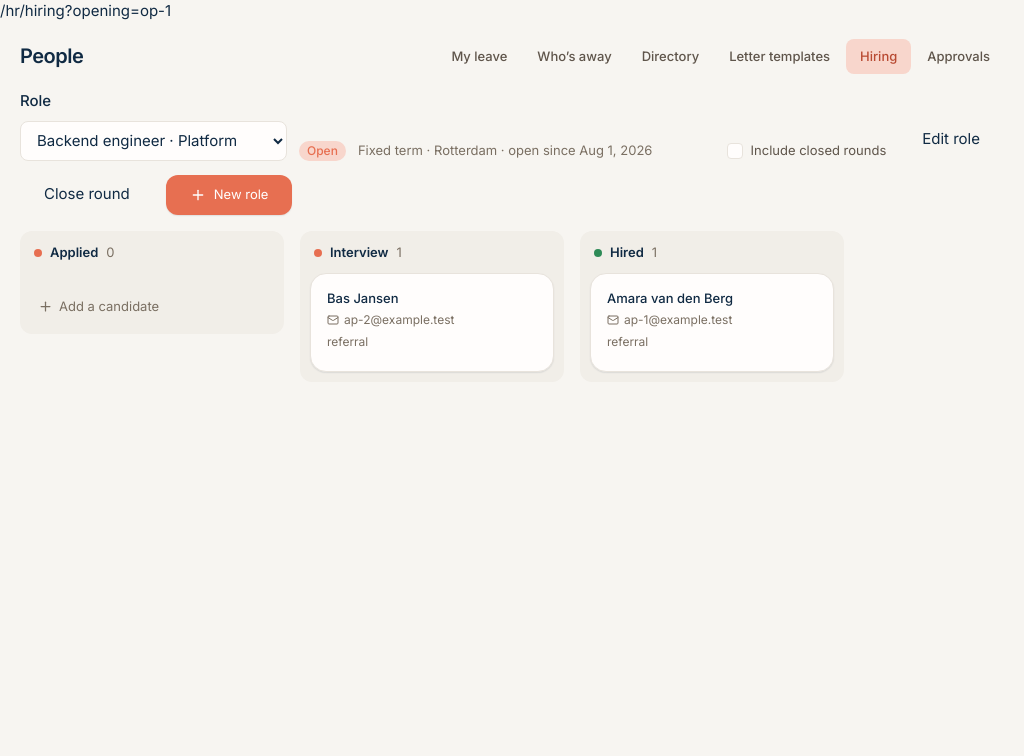
the CV, from the browser › a candidate with no CV is offered one, through the record form
Click the text "Amara van den Berg" at (670, 298), box [607,290,733,306]
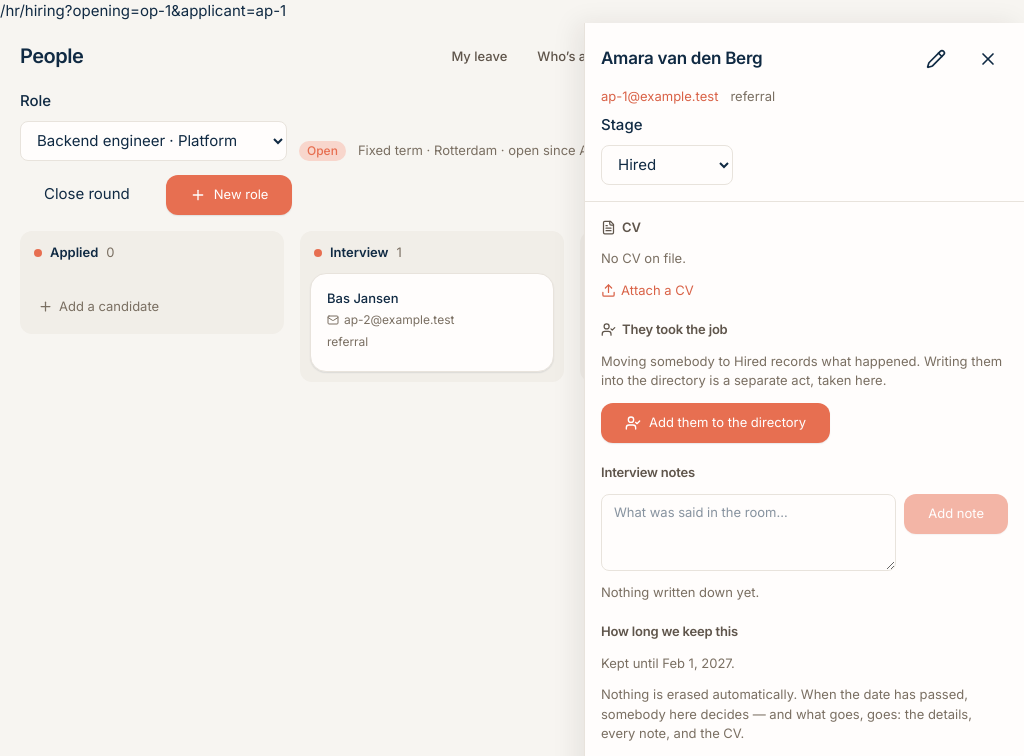
Check: the text "Nothing written down yet." is shown, box [601,582,759,602]
Click the button "Attach a CV" at (647, 290), box [601,280,694,300]
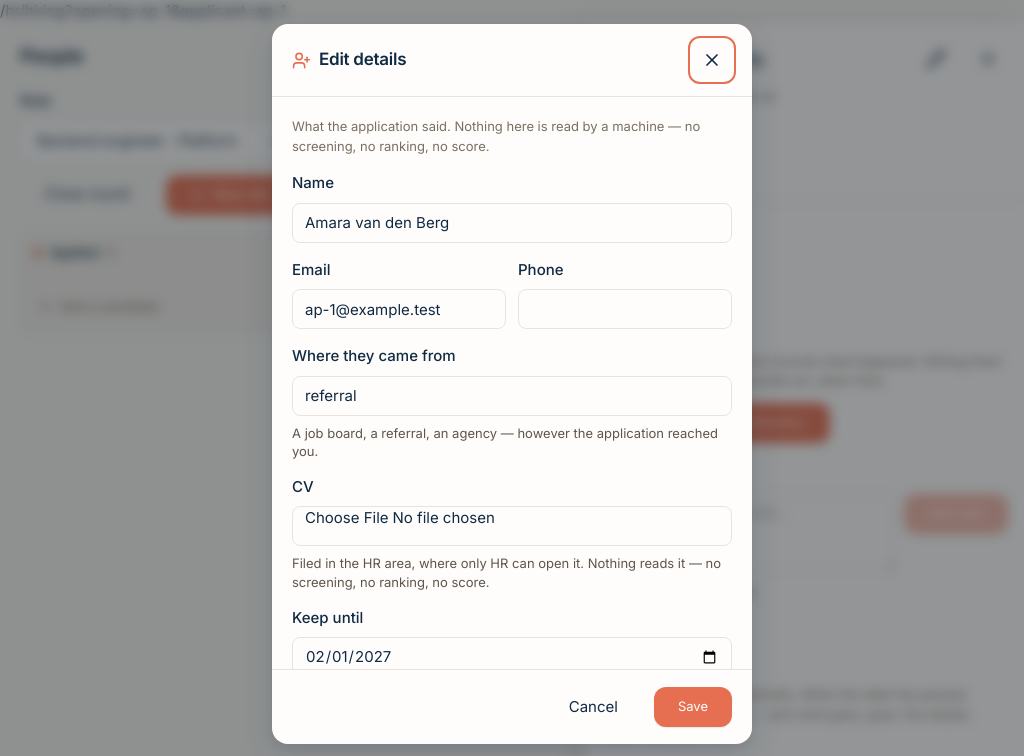
Check: the dialog "Edit details" is shown, box [272,24,752,744]
